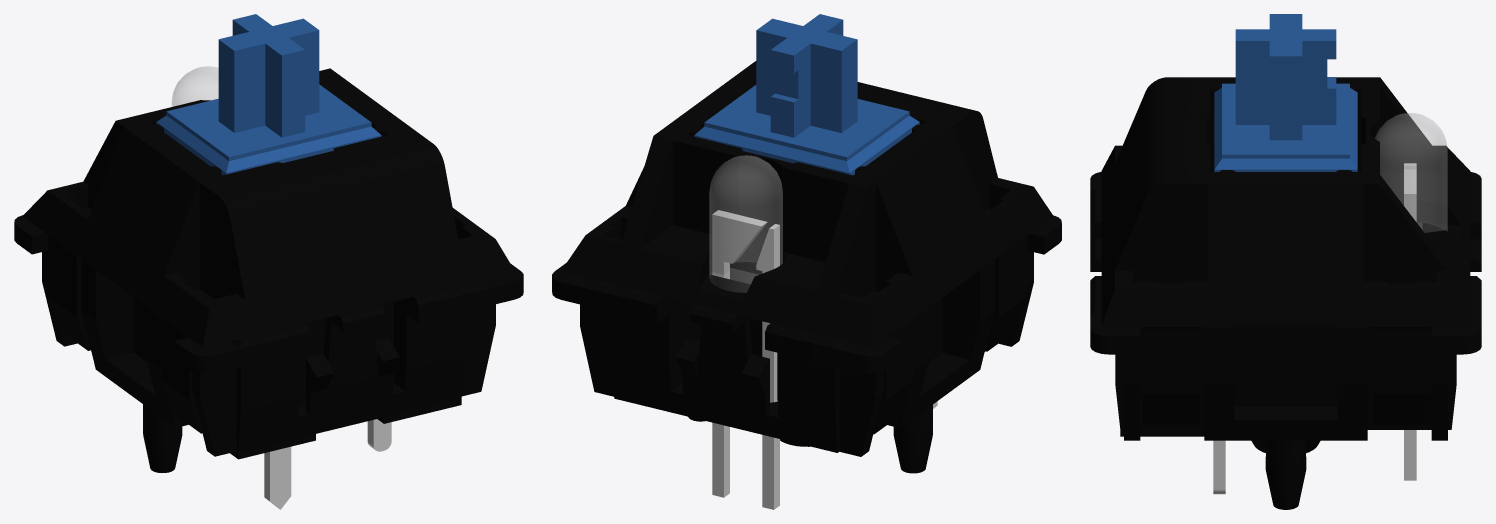
File: switch-hero.glb
3 renders of one model, left to right at view 1: azimuth 30°, elevation 25°; view 2: azimuth 150°, elevation 25°; view 3: azimuth 270°, elevation 25°, orthographic. The views are drawn at different scales.
Parts seen in each view (by area): view 1: Top, Bottom, Stem, LED_Metal, LED_material; view 2: Top, Bottom, Stem, LED_material, LED_Metal; view 3: Top, Bottom, Stem, LED_material, LED_Metal.
Boxes of the visible parts, bbox=[...] form: Top: bbox=[23, 68, 515, 433]; Bottom: bbox=[14, 215, 523, 472]; Stem: bbox=[156, 14, 381, 175]; LED_Metal: bbox=[264, 419, 391, 509]; LED_material: bbox=[172, 66, 218, 106]; Top: bbox=[560, 61, 1053, 434]; Bottom: bbox=[552, 215, 1061, 473]; Stem: bbox=[694, 14, 919, 175]; LED_material: bbox=[709, 155, 782, 292]; LED_Metal: bbox=[712, 210, 937, 509]; Top: bbox=[1101, 77, 1470, 424]; Bottom: bbox=[1090, 171, 1481, 509]; Stem: bbox=[1214, 14, 1357, 171]; LED_material: bbox=[1375, 113, 1447, 232]; LED_Metal: bbox=[1213, 163, 1416, 494].
Bounding box in the file's own units: 0.0156 × 0.0189 × 0.0156.
